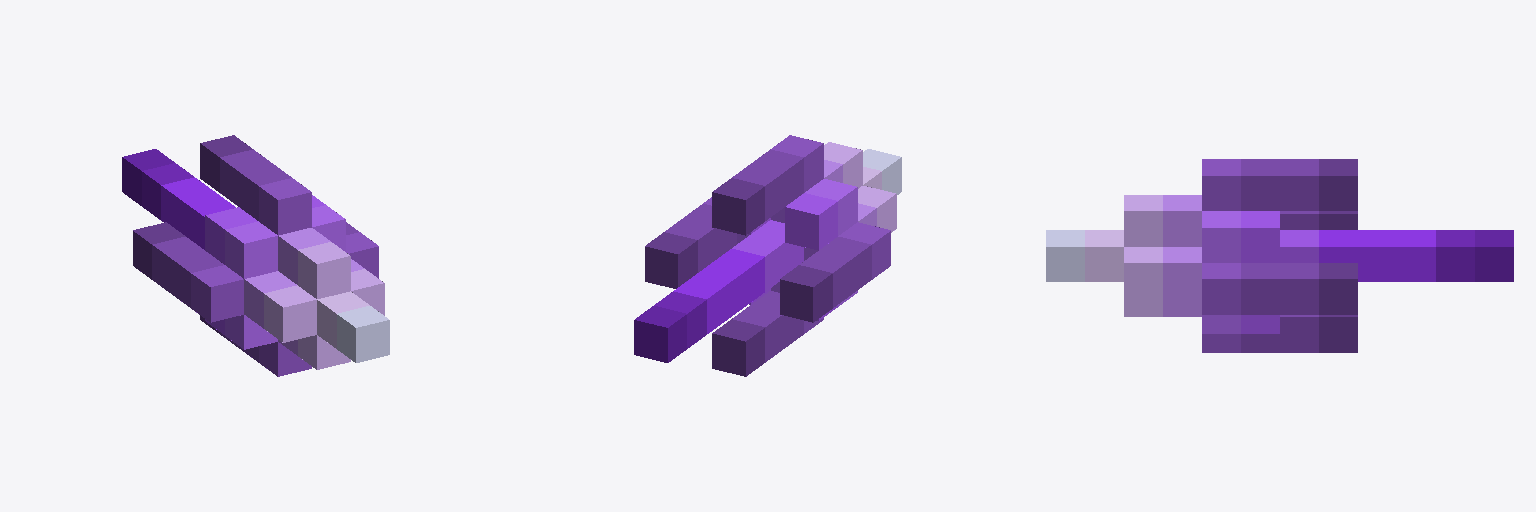
The picture shows the model from 3 angles: view 1: azimuth 30°, elevation 25°; view 2: azimuth 150°, elevation 25°; view 3: azimuth 270°, elevation 25°; orthographic projection.
Visible parts, largest first — view 1: AstromancerManualProjectilePurple; view 2: AstromancerManualProjectilePurple; view 3: AstromancerManualProjectilePurple.
Boxes of the visible parts, <box> form: AstromancerManualProjectilePurple: <box>122,135,389,376</box>; AstromancerManualProjectilePurple: <box>634,135,901,376</box>; AstromancerManualProjectilePurple: <box>1046,159,1513,352</box>.
Bounding box in the file's own units: 5 × 5 × 12.
Materials: 1 (1 with a texture image).